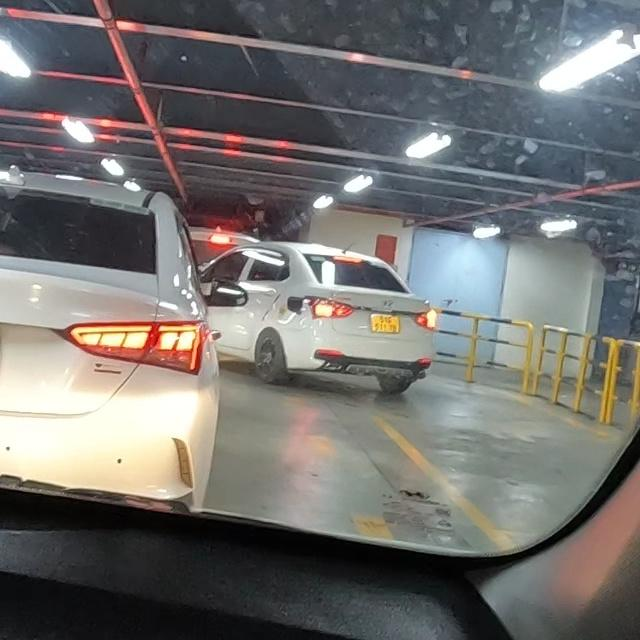license-plate: (369, 313, 402, 334)
